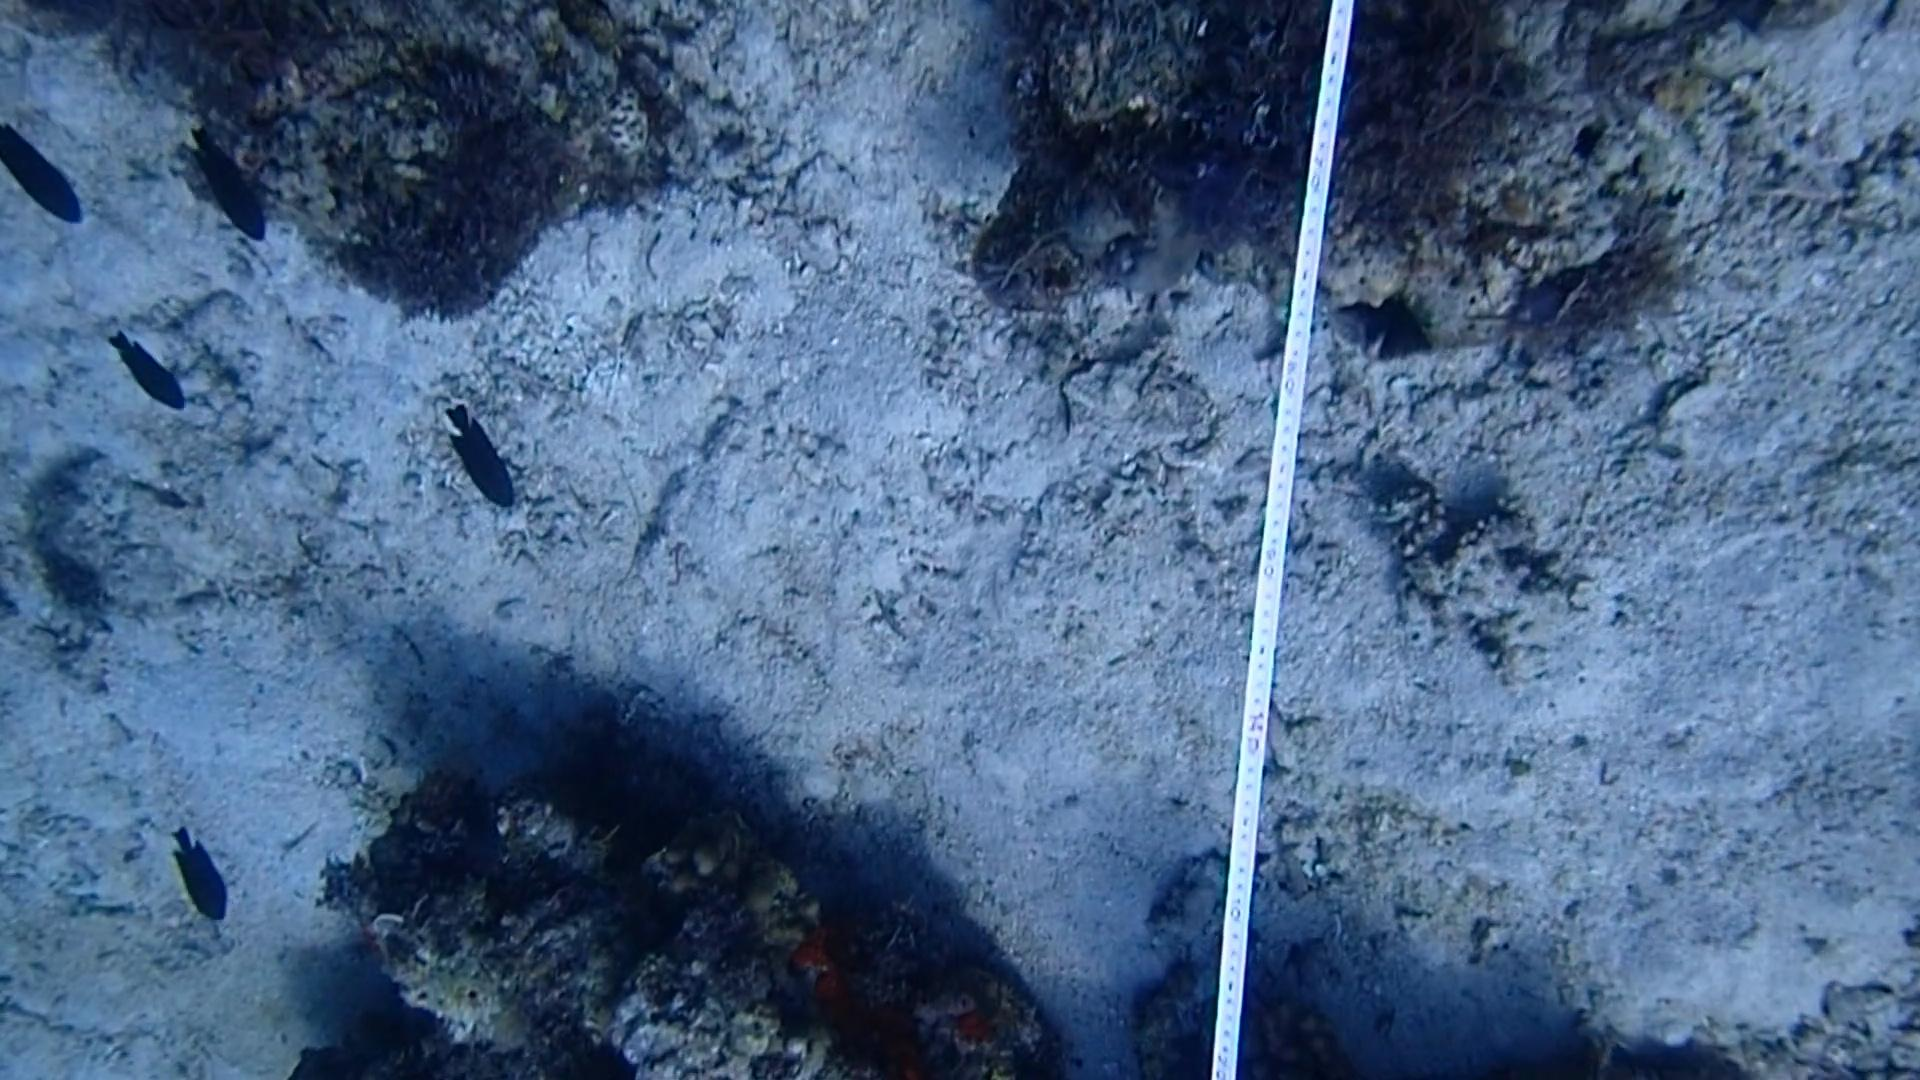Dark Fish: (171, 119, 281, 252), (431, 400, 529, 525), (0, 117, 91, 236), (111, 319, 196, 427), (161, 818, 239, 935)
